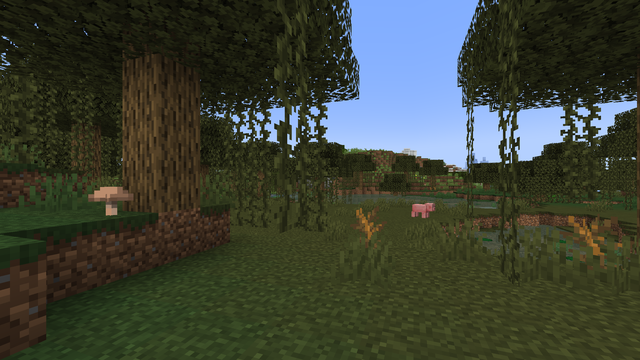cochons: (414, 203, 428, 217)
